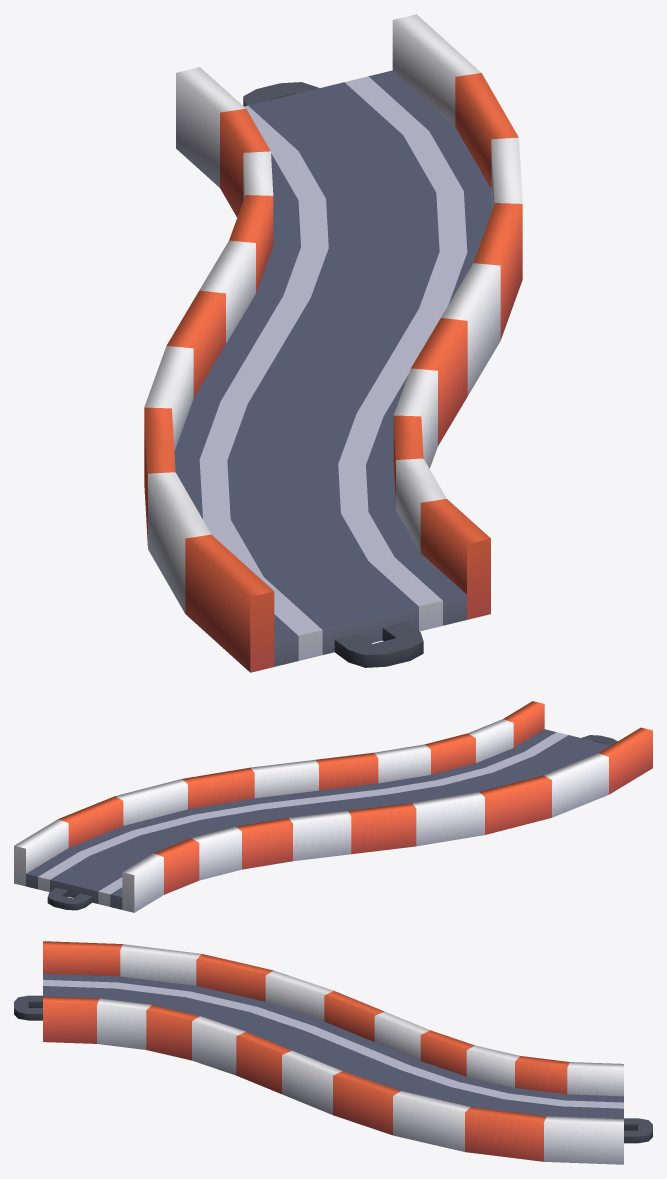
File: track-road-narrow-curve.glb
3 views of the same model, one above another, from view 1: azimuth 30°, elevation 25°; view 2: azimuth 150°, elevation 25°; view 3: azimuth 270°, elevation 25° (orthographic). The views are drawn at different scales.
Visible parts, largest first — view 1: track-road-narrow-curve; view 2: track-road-narrow-curve; view 3: track-road-narrow-curve.
Boxes of the visible parts, x1=… form: track-road-narrow-curve: x1=144, y1=14, x2=522, y2=672; track-road-narrow-curve: x1=14, y1=701, x2=652, y2=912; track-road-narrow-curve: x1=14, y1=941, x2=652, y2=1164.
Size of the model in its own units: 9 by 0.9 by 13.2.
1 material, 1 textured.
